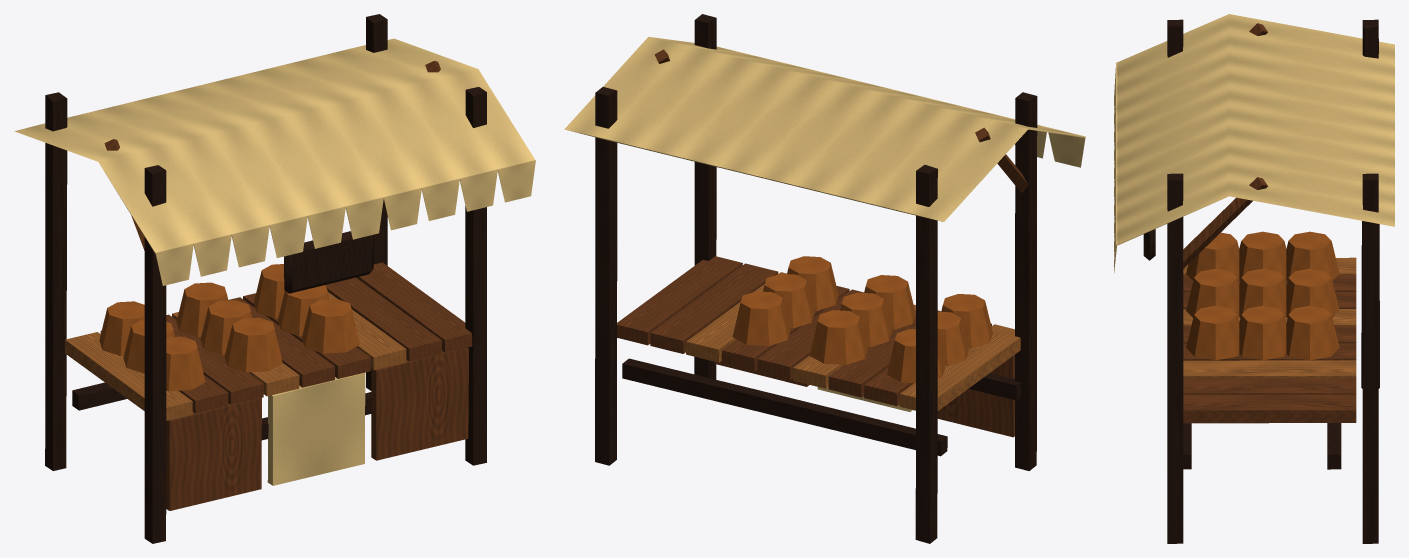
Rendered from Banca_do_padeiro_LOD1.fbx.
3 views of the same model, side by side, from view 1: azimuth 30°, elevation 25°; view 2: azimuth 150°, elevation 25°; view 3: azimuth 270°, elevation 25° (orthographic).
Visible parts, largest first — view 1: Banca_do_padeiro_LOD1; view 2: Banca_do_padeiro_LOD1; view 3: Banca_do_padeiro_LOD1.
Boxes of the visible parts, x1,y1,x2,y2 form: Banca_do_padeiro_LOD1: (14,14,535,543); Banca_do_padeiro_LOD1: (564,14,1085,543); Banca_do_padeiro_LOD1: (1114,14,1394,543).
Bounding box in the file's own units: 320 × 299 × 208.
Materials: 1 (1 with a texture image).
